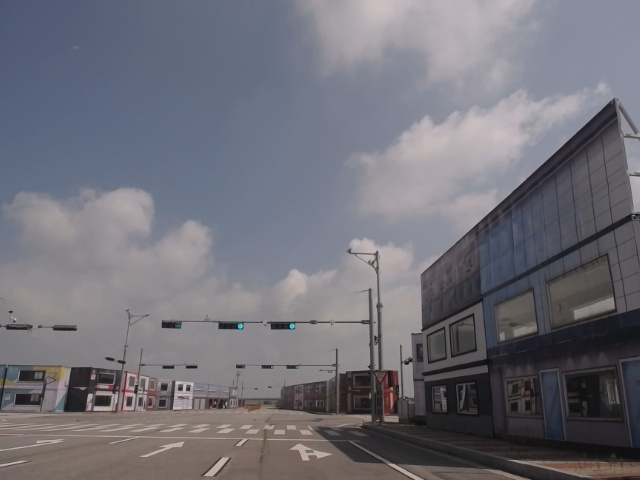straight_green_4: (270, 321, 297, 330), (219, 322, 245, 331)
